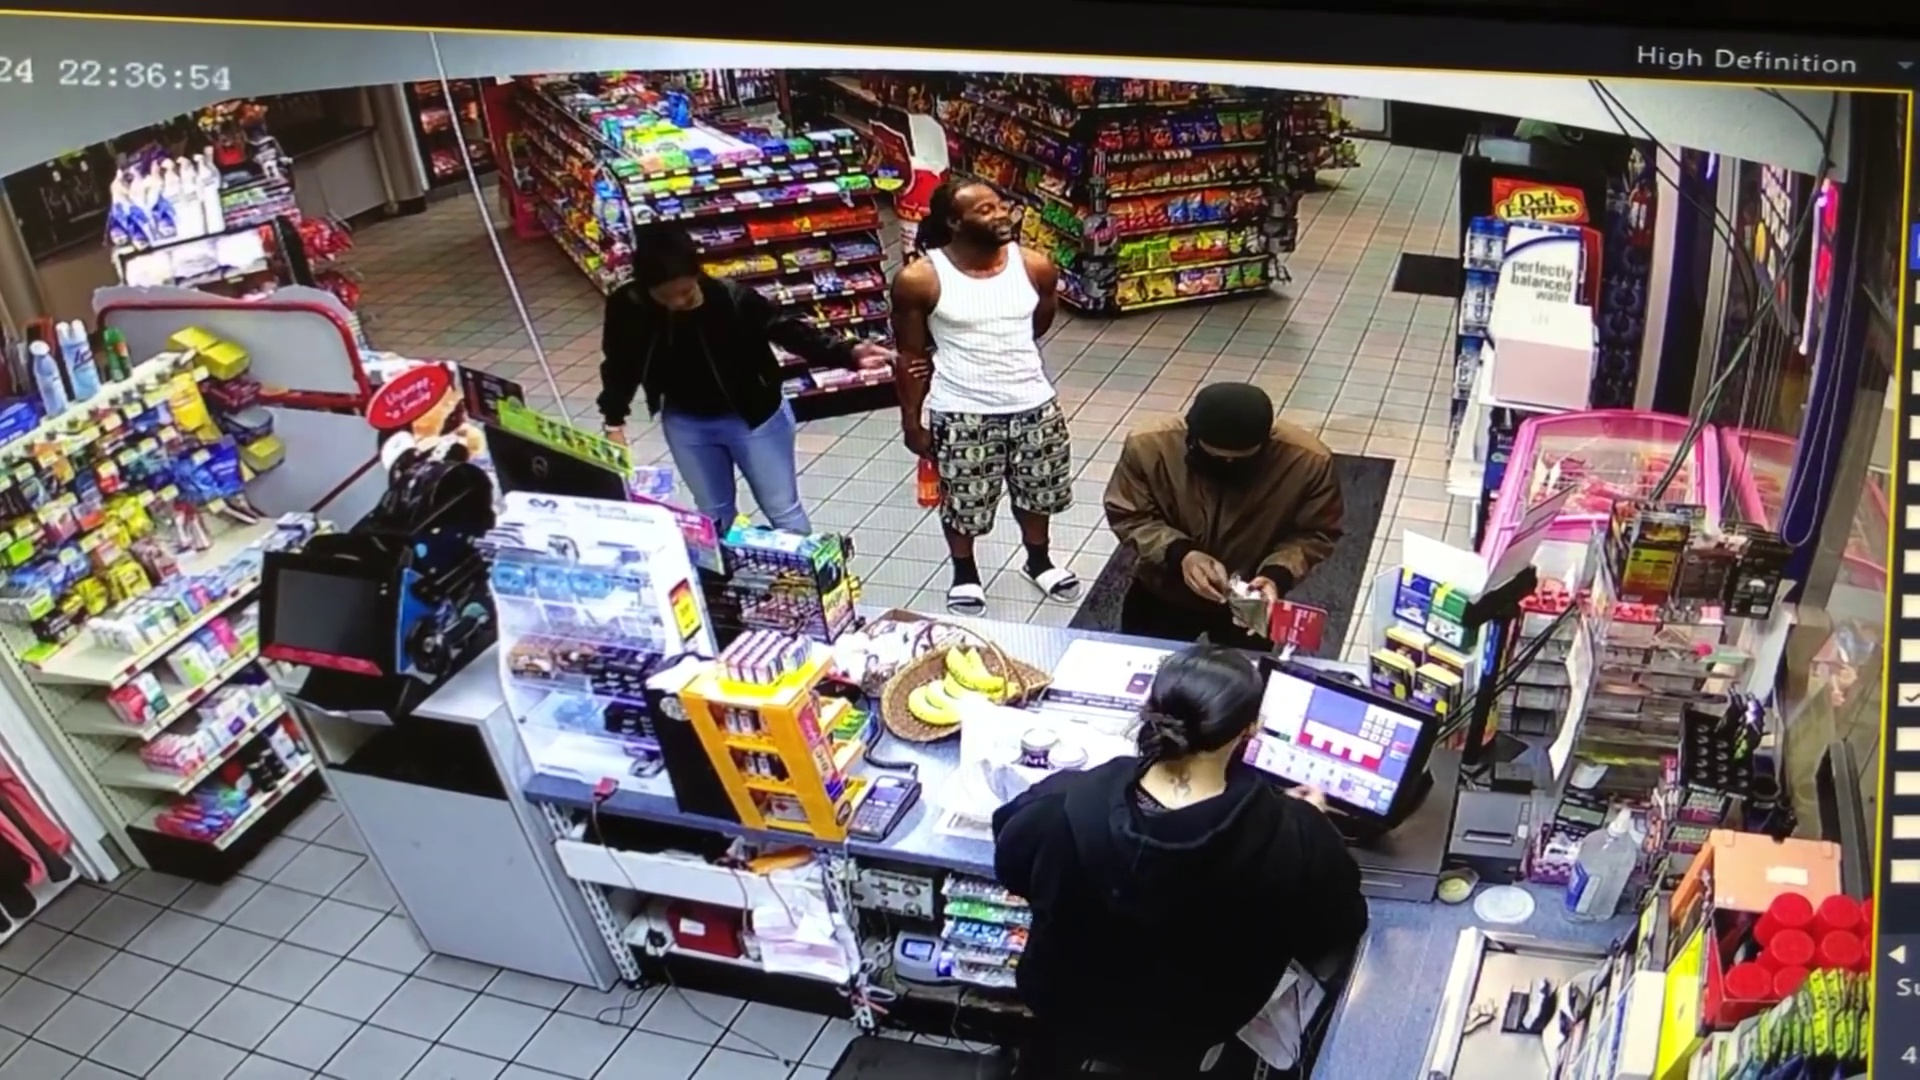face: (954, 188, 1015, 256), (1196, 424, 1261, 478), (644, 273, 698, 316)
